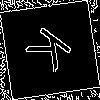K: (24, 24, 81, 79)
